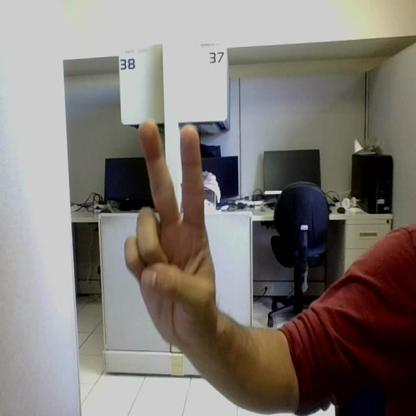V: (125, 120, 216, 336)
